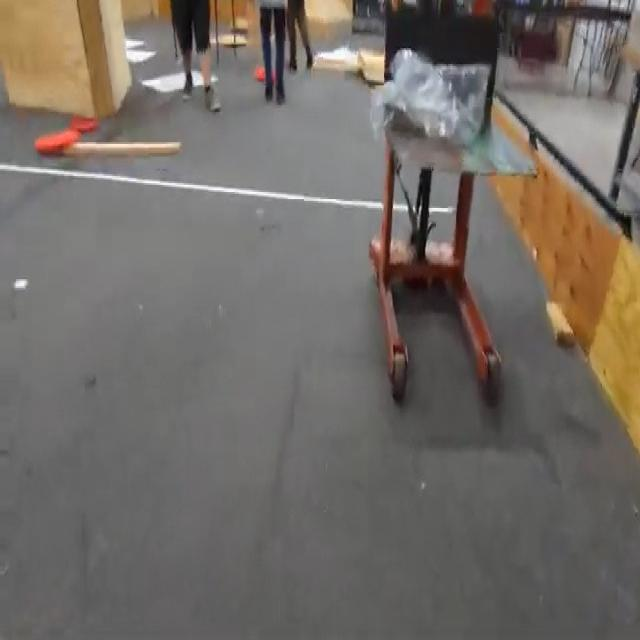note: (34, 127, 80, 162)
